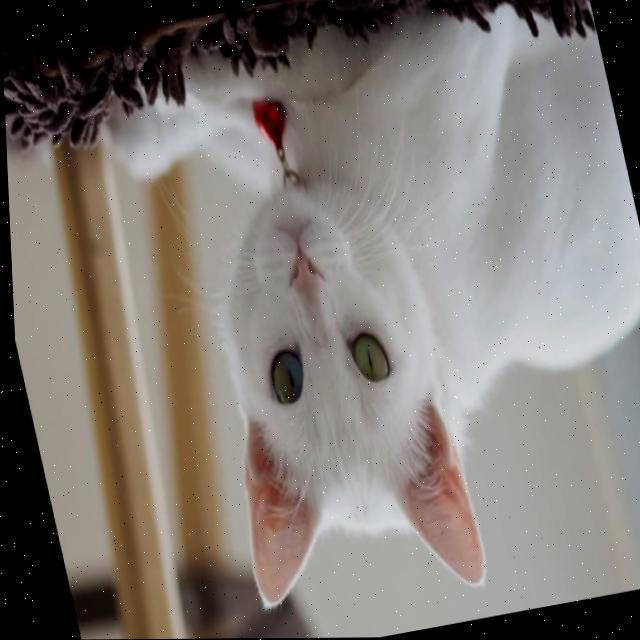Khao Manee: (84, 0, 640, 640)
